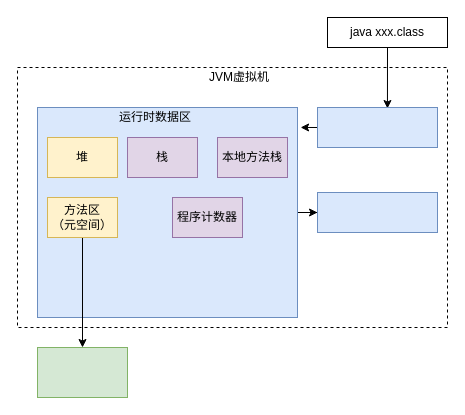
Image size: 465x415. Some labels were removed from this diagram. Here are the shapes that lost their labels. From the top down, the centre of each, then its label:
At (377,127): "类装载子系统".
At (377,212): "执行引擎".
At (82,372): "直接内存".
